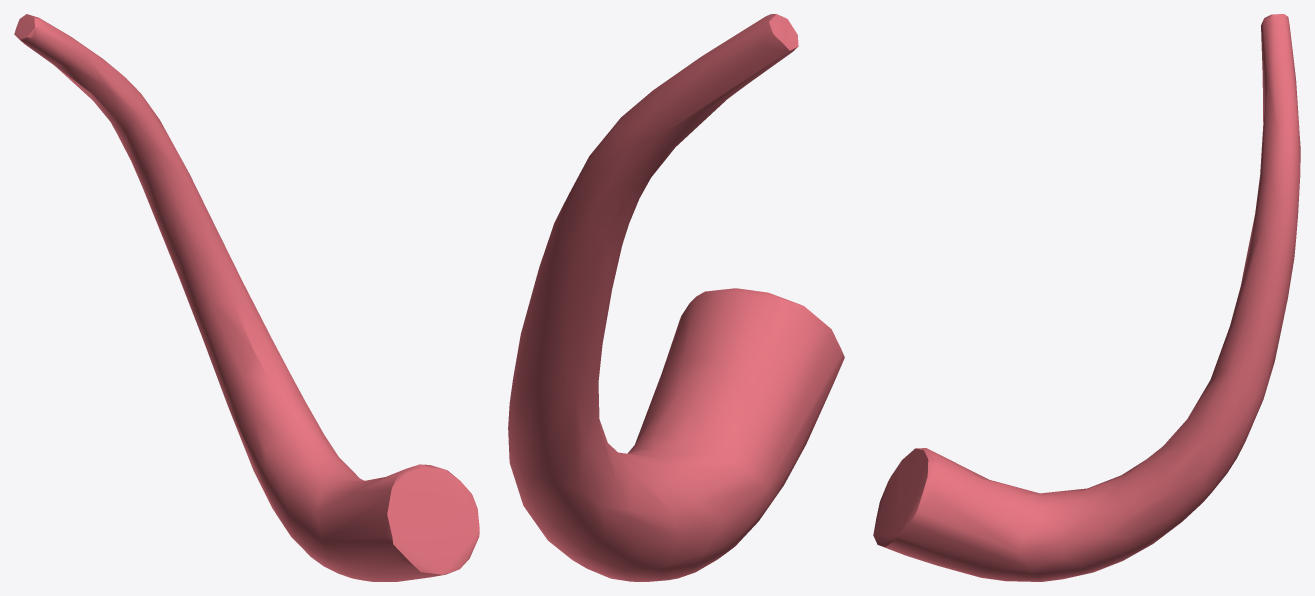
File: fma8642_fj2888.glb
3 renders of one model, left to right at view 1: azimuth 30°, elevation 25°; view 2: azimuth 150°, elevation 25°; view 3: azimuth 270°, elevation 25°, orthographic. The views are drawn at different scales.
Visible parts, largest first — view 1: FMA8642_FJ2888; view 2: FMA8642_FJ2888; view 3: FMA8642_FJ2888.
Boxes of the visible parts, x1=… form: FMA8642_FJ2888: x1=14, y1=14, x2=479, y2=581; FMA8642_FJ2888: x1=508, y1=14, x2=844, y2=581; FMA8642_FJ2888: x1=873, y1=14, x2=1300, y2=581.
Bounding box in the file's own units: 0.0202 × 0.0362 × 0.0294.
